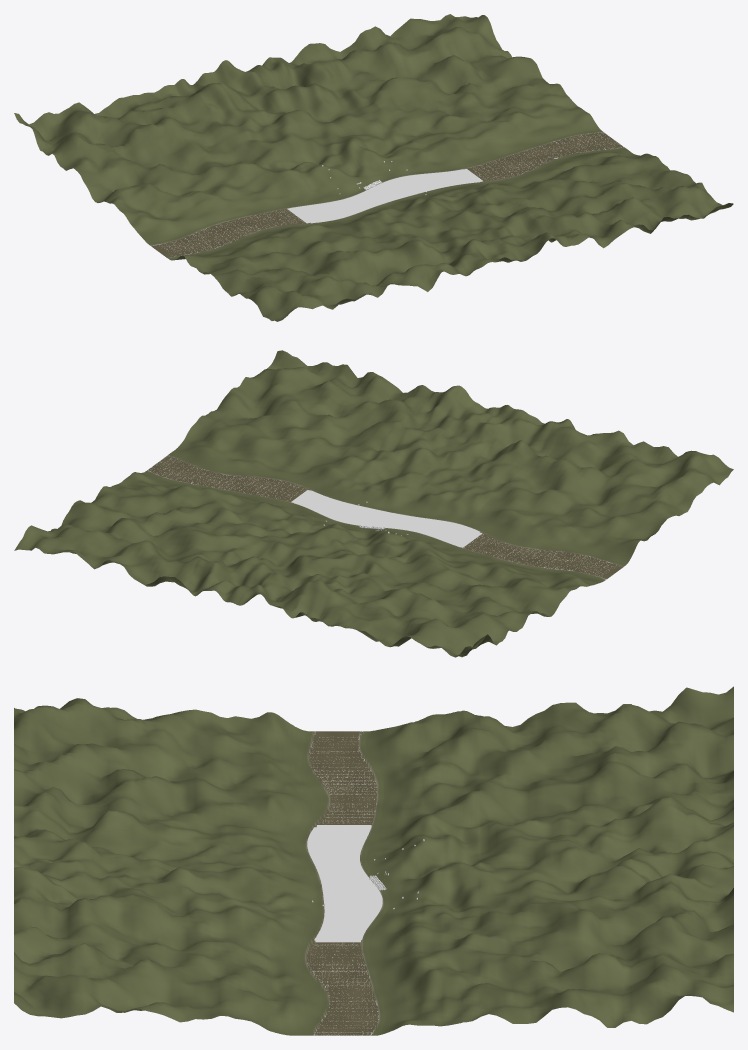
Rendered from chishui.glb.
3 renders of one model, top to bottom at view 1: azimuth 30°, elevation 25°; view 2: azimuth 150°, elevation 25°; view 3: azimuth 270°, elevation 25°, orthographic. The views are drawn at different scales.
Parts seen in each view (by area): view 1: Continuous terrain, River surface; view 2: Continuous terrain, River surface; view 3: Continuous terrain, River surface.
Boxes of the visible parts, x1=… form: Continuous terrain: x1=14, y1=14, x2=733, y2=321; River surface: x1=151, y1=132, x2=623, y2=256; Continuous terrain: x1=14, y1=350, x2=733, y2=657; River surface: x1=148, y1=455, x2=616, y2=579; Continuous terrain: x1=14, y1=686, x2=733, y2=1035; River surface: x1=307, y1=731, x2=382, y2=1035.
Bounding box in the file's own units: 2738 × 215 × 2738.
